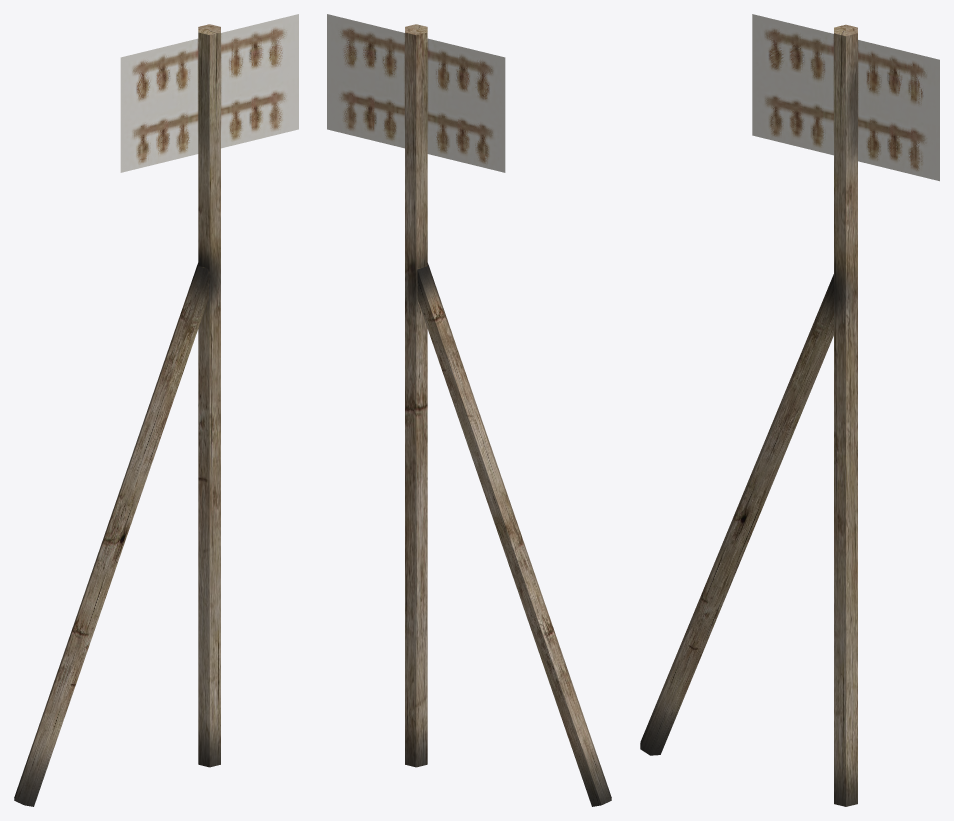
The model's file is PFB-Racing-Track-Assets-01-Telegraph-Pylon.fbx.
3 views of the same model, side by side, from view 1: azimuth 30°, elevation 25°; view 2: azimuth 150°, elevation 25°; view 3: azimuth 330°, elevation 25° (orthographic). The views are drawn at different scales.
Parts seen in each view (by area): view 1: telegraph_pylon; view 2: telegraph_pylon; view 3: telegraph_pylon.
Part boxes in pixels (x1,y1,x2,y2): telegraph_pylon: (14, 14, 298, 806); telegraph_pylon: (327, 14, 611, 806); telegraph_pylon: (640, 14, 939, 806).
Size of the model in its own units: 35.3 by 86.85 by 2.44.
